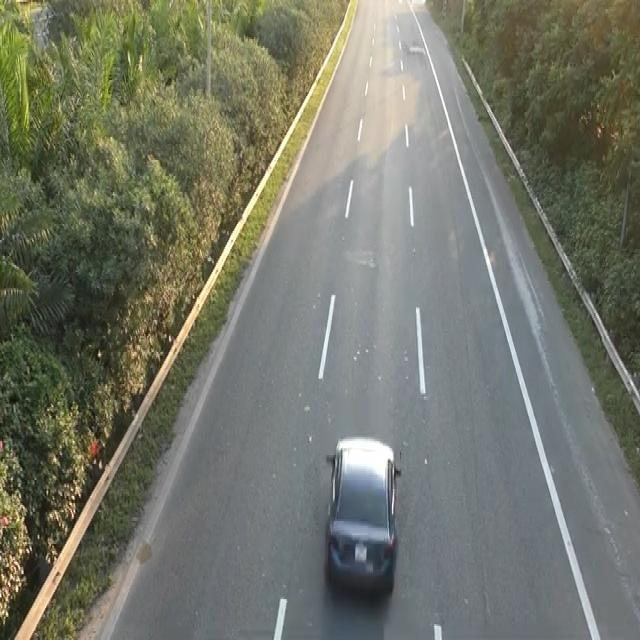bus: (321, 428, 402, 598)
